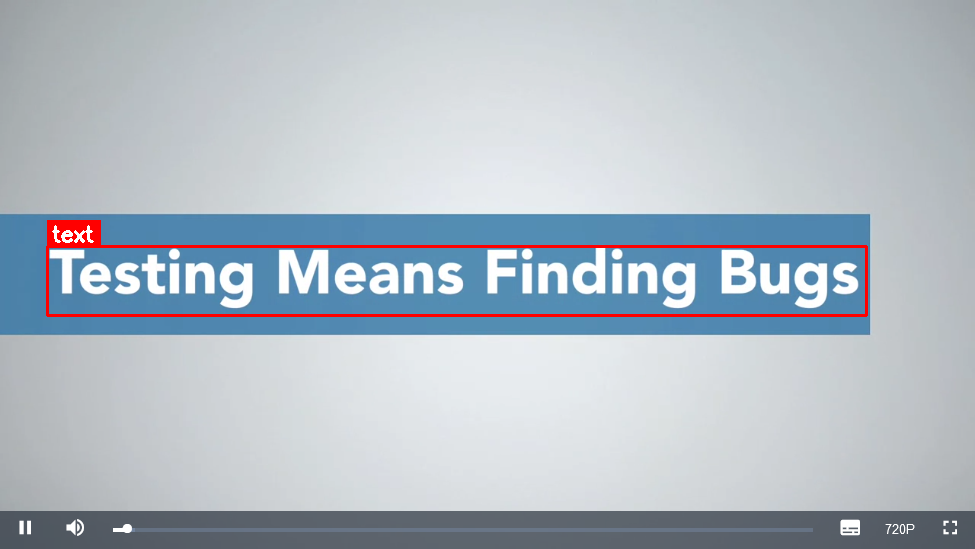text: (47, 246, 866, 315)
